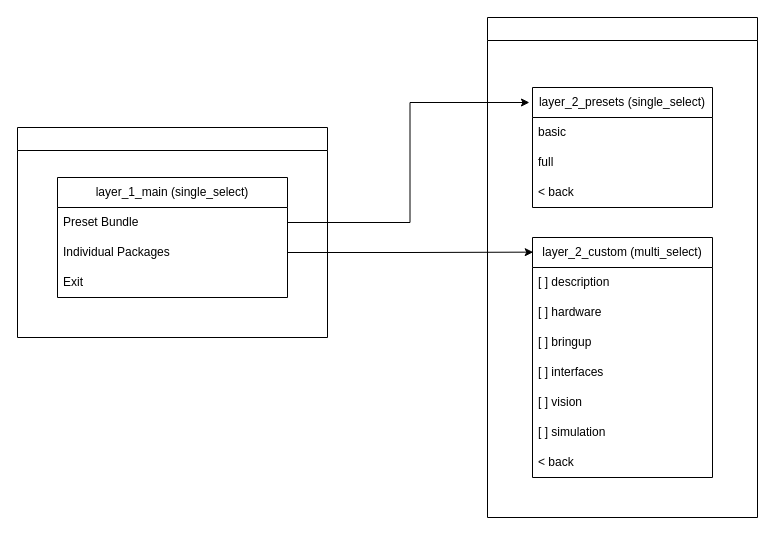
The diagram is 775 pixels wide and 535 high, and some of its shapes have lost their labels. The shapes that lost their labels are listed below. From the top down, each one's centre as x and y in pixels, then its label:
point 172,232: layer_1
point 622,267: layer_2
